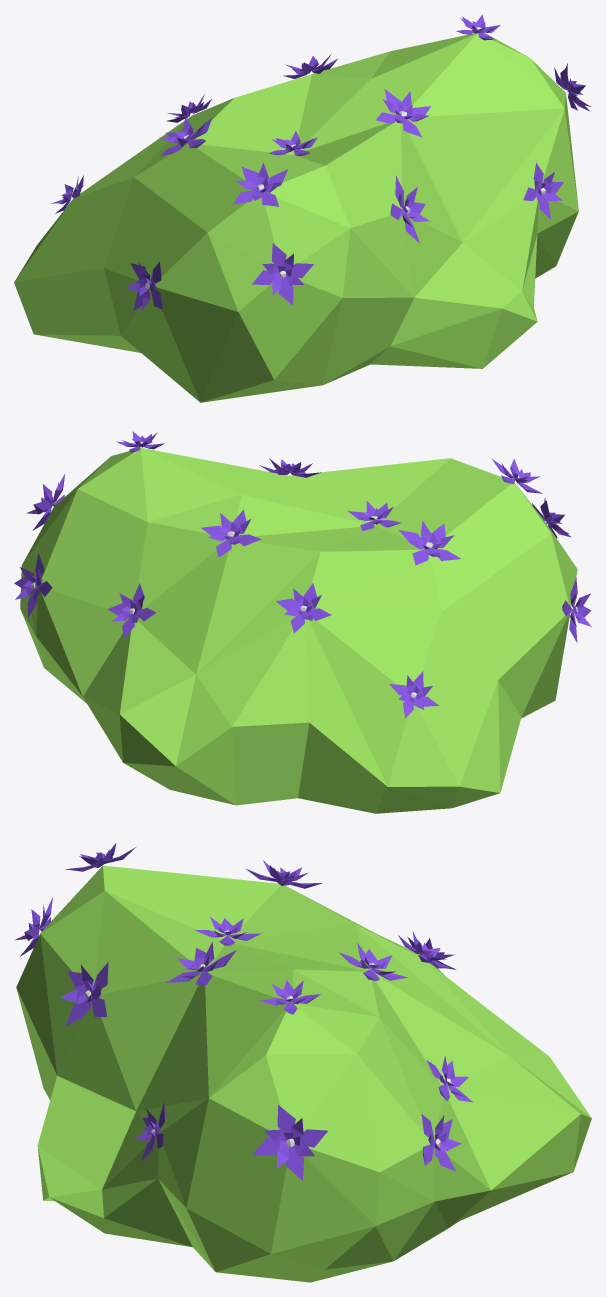
File: bush_02.fbx
3 renders of one model, top to bottom at view 1: azimuth 30°, elevation 25°; view 2: azimuth 150°, elevation 25°; view 3: azimuth 270°, elevation 25°, orthographic. The views are drawn at different scales.
Visible parts, largest first — view 1: bush_02; view 2: bush_02; view 3: bush_02.
Part boxes in pixels (x1=…): bush_02: x1=14, y1=14, x2=590, y2=402; bush_02: x1=14, y1=431, x2=591, y2=813; bush_02: x1=14, y1=843, x2=591, y2=1282.
Size of the model in its own units: 121 by 54.71 by 105.
